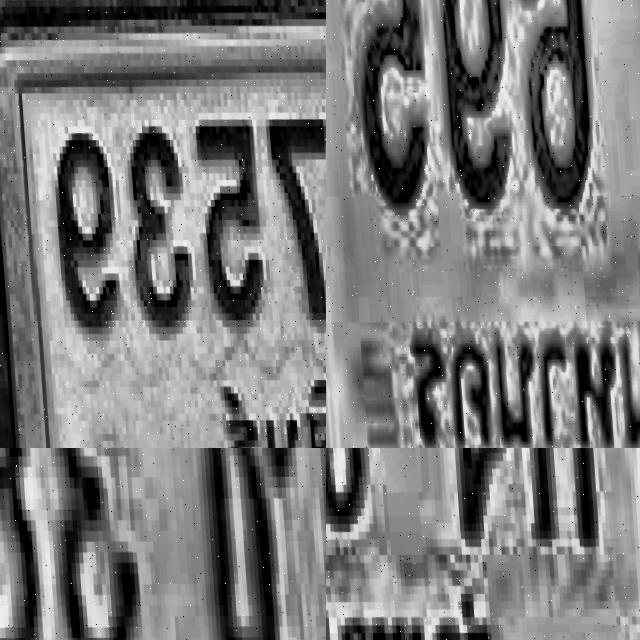license-plate: (0, 0, 326, 448), (326, 0, 640, 448), (0, 448, 326, 640), (326, 448, 640, 640)
